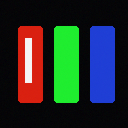4 line_v: (25, 38, 31, 82)
